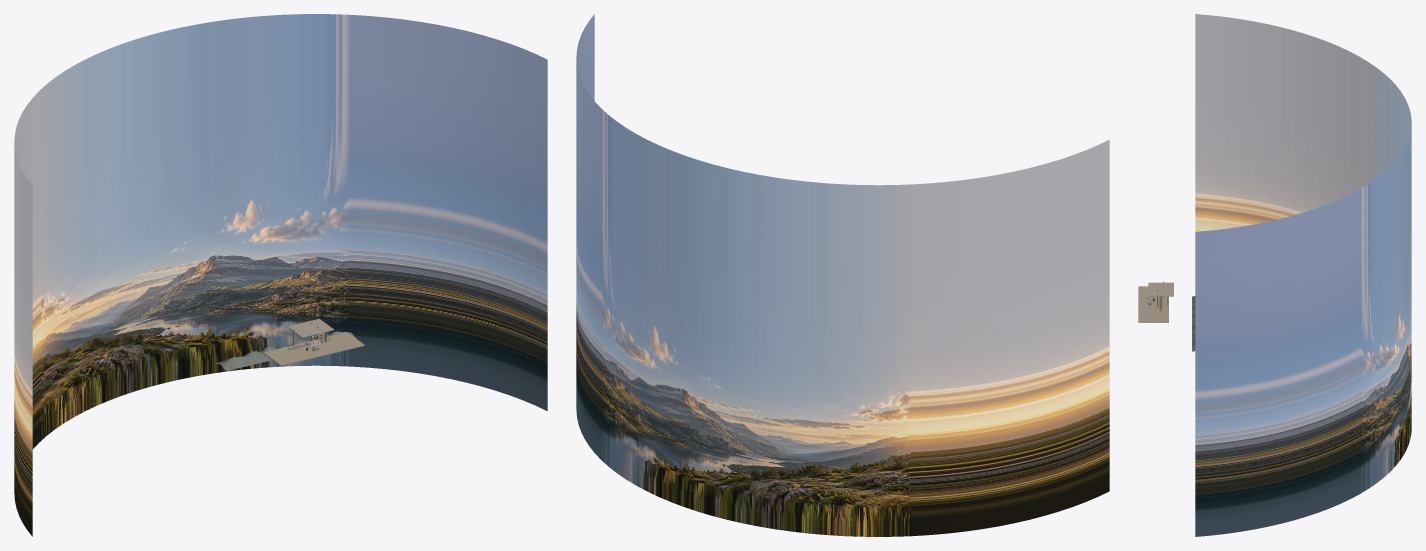
File: C04_connected_whole_crown_STATIC_CANDIDATE.glb
The picture shows the model from 3 angles, left to right: view 1: azimuth 30°, elevation 25°; view 2: azimuth 150°, elevation 25°; view 3: azimuth 270°, elevation 25°; orthographic projection. The views are drawn at different scales.
Visible parts, largest first — view 1: C04_sunset_sky_vault, C04_continuous_terrace_floor, C04_fictional_mountain_depth_0; view 2: C04_sunset_sky_vault; view 3: C04_sunset_sky_vault, C04_continuous_terrace_floor, C04_reading_room_upper_soffit.
Boxes of the visible parts, <box> form: C04_sunset_sky_vault: <box>14,14,547,536</box>; C04_continuous_terrace_floor: <box>263,332,364,366</box>; C04_fictional_mountain_depth_0: <box>216,331,355,371</box>; C04_sunset_sky_vault: <box>576,14,1109,536</box>; C04_sunset_sky_vault: <box>1195,14,1411,536</box>; C04_continuous_terrace_floor: <box>1138,286,1168,322</box>; C04_reading_room_upper_soffit: <box>1148,282,1173,296</box>.
Size of the model in its own units: 110 by 72 by 58.5.
Materials: 25 (4 with a texture image).
